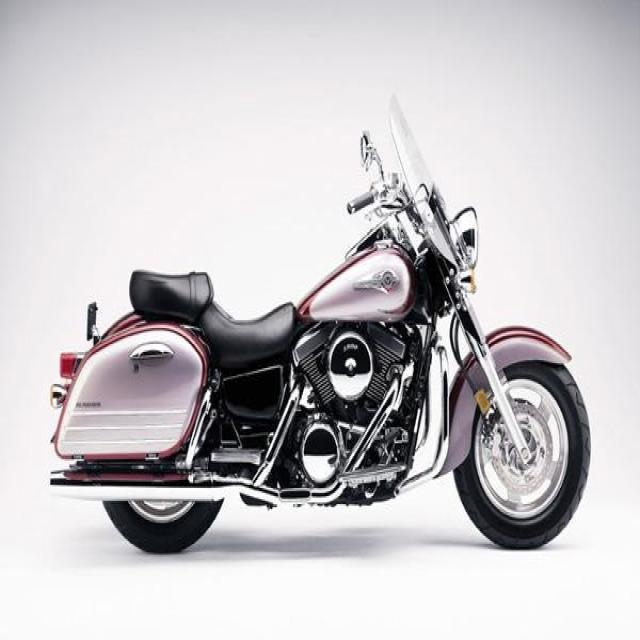Motorcycle: (47, 96, 593, 557)
